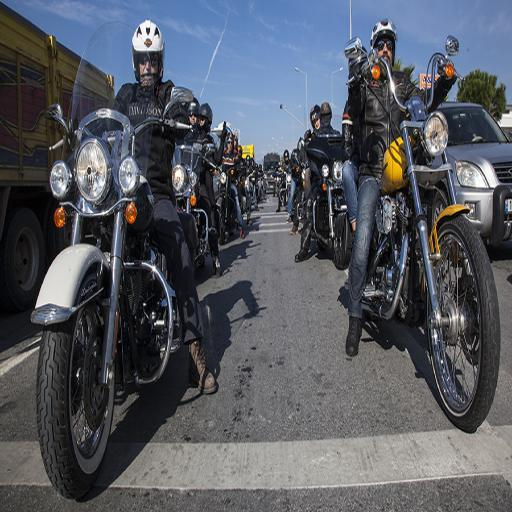helmet: (328, 9, 512, 420), (48, 16, 222, 418), (296, 82, 356, 272)
